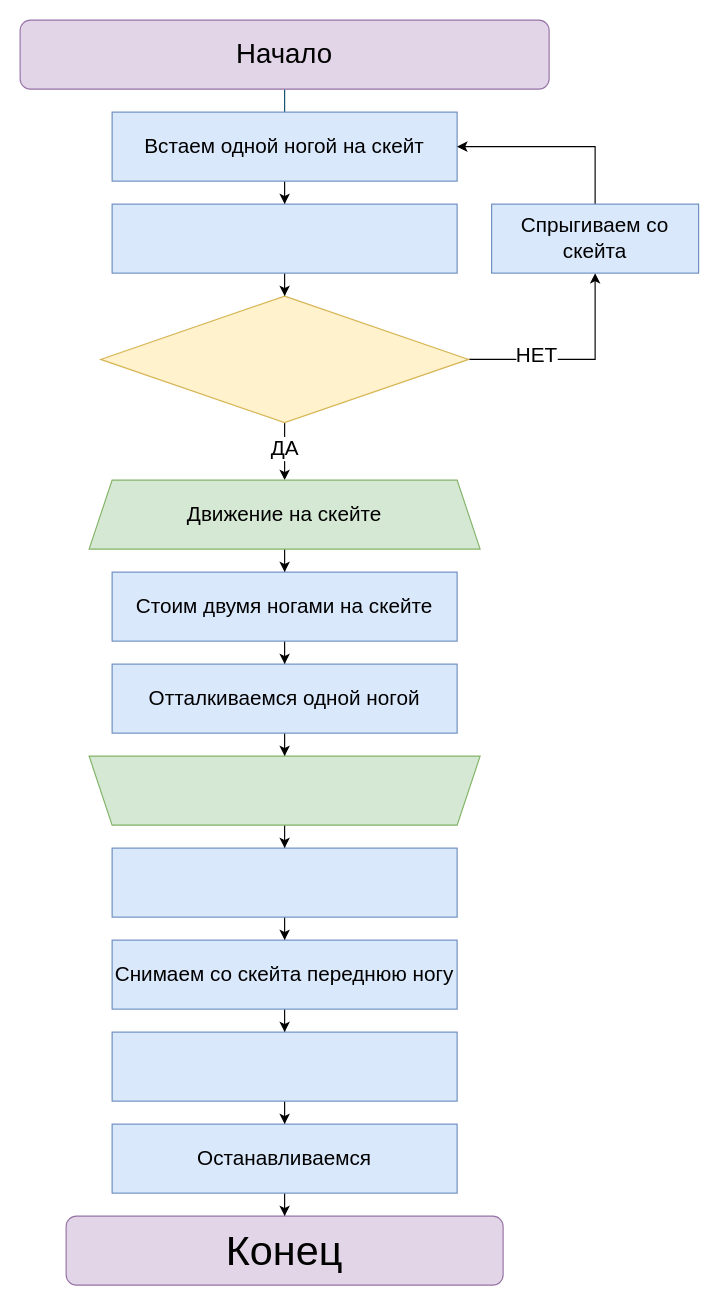
Image size: 719x1305. Some labels were removed from this diagram. The shapes that lost their labels are listed below. From the top down, each one's centre as x and y in pixels, then its label:
At pixel 284 238: "Отталкиваемся второй ногой".
At pixel 284 359: "Устоял?".
At pixel 284 790: "Движение на скейте. При желании остановиться".
At pixel 284 882: "Переводим центр масс на заднюю ногу".
At pixel 284 1066: "Ставим ногу на землю".
